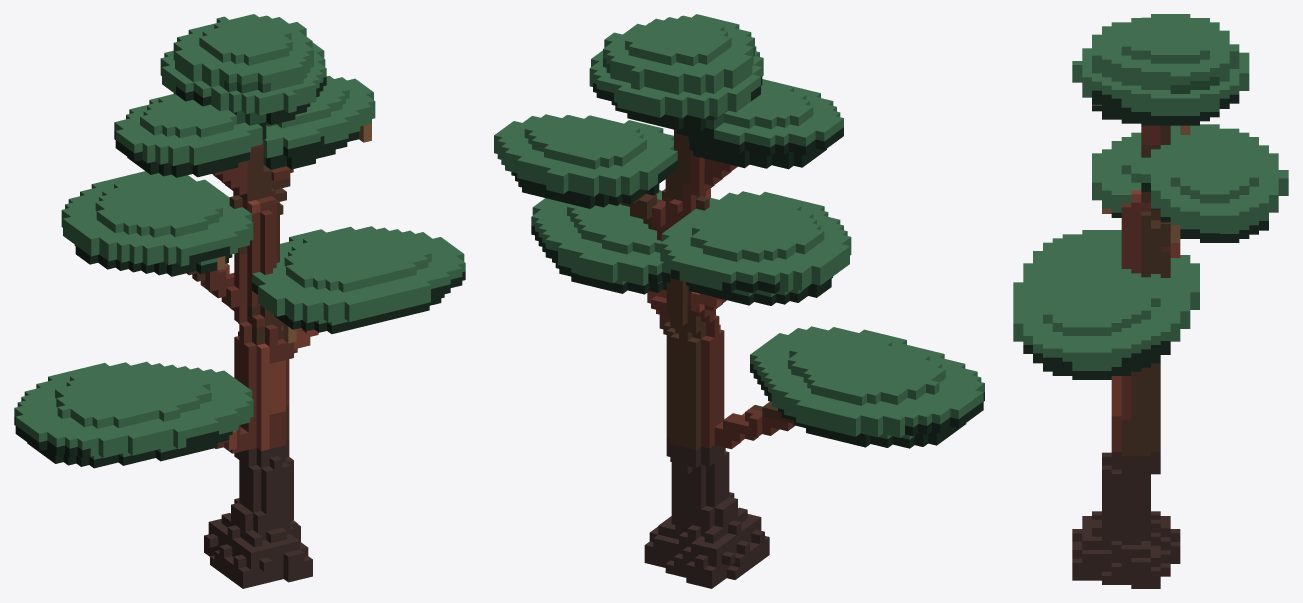
The model's file is Mountain_Pine_v3_C.fbx.
The picture shows the model from 3 angles, left to right: view 1: azimuth 30°, elevation 25°; view 2: azimuth 150°, elevation 25°; view 3: azimuth 270°, elevation 25°; orthographic projection. The views are drawn at different scales.
Parts seen in each view (by area): view 1: Mountain_Pine_v3_C; view 2: Mountain_Pine_v3_C; view 3: Mountain_Pine_v3_C.
Boxes of the visible parts, bbox=[...] form: Mountain_Pine_v3_C: bbox=[14, 14, 465, 588]; Mountain_Pine_v3_C: bbox=[494, 14, 984, 588]; Mountain_Pine_v3_C: bbox=[1013, 14, 1288, 588].
Bounding box in the file's own units: 3.4 × 4 × 1.87.
1 material, 1 textured.
